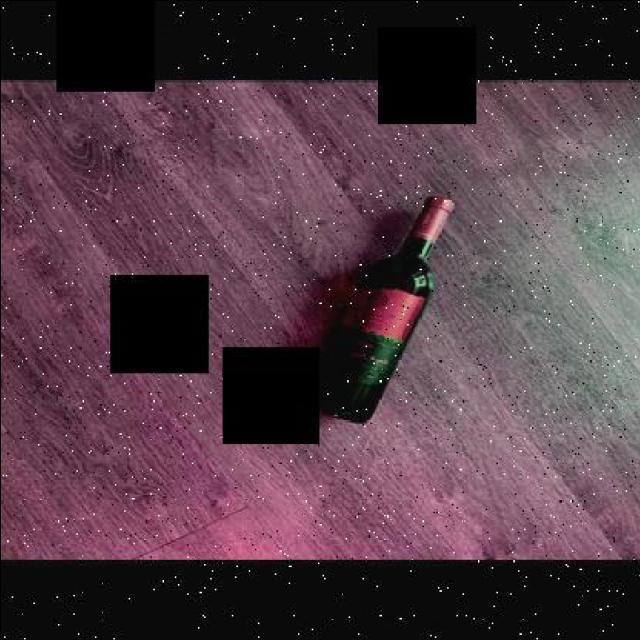glass: (308, 156, 524, 442)
